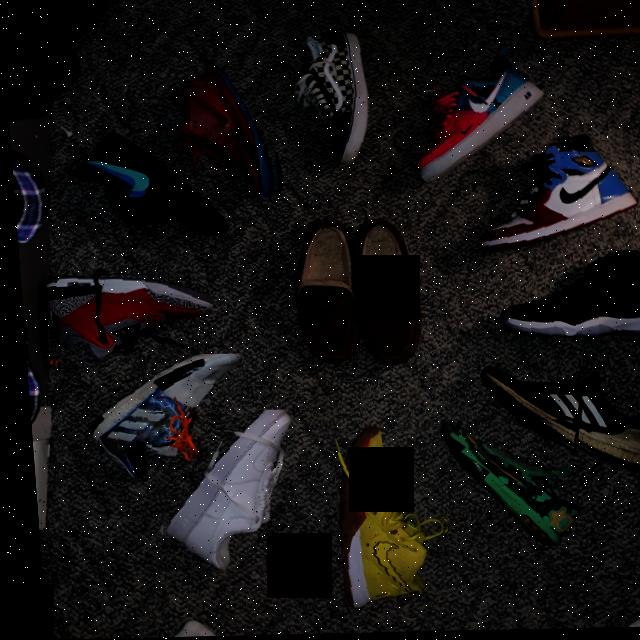shoe: (141, 410, 294, 578), (325, 425, 447, 611), (80, 354, 245, 484), (407, 43, 551, 185), (467, 135, 638, 254), (472, 363, 640, 481), (433, 417, 576, 550), (67, 128, 227, 239), (38, 269, 212, 365), (167, 59, 283, 200), (491, 253, 640, 351), (290, 30, 374, 169)
